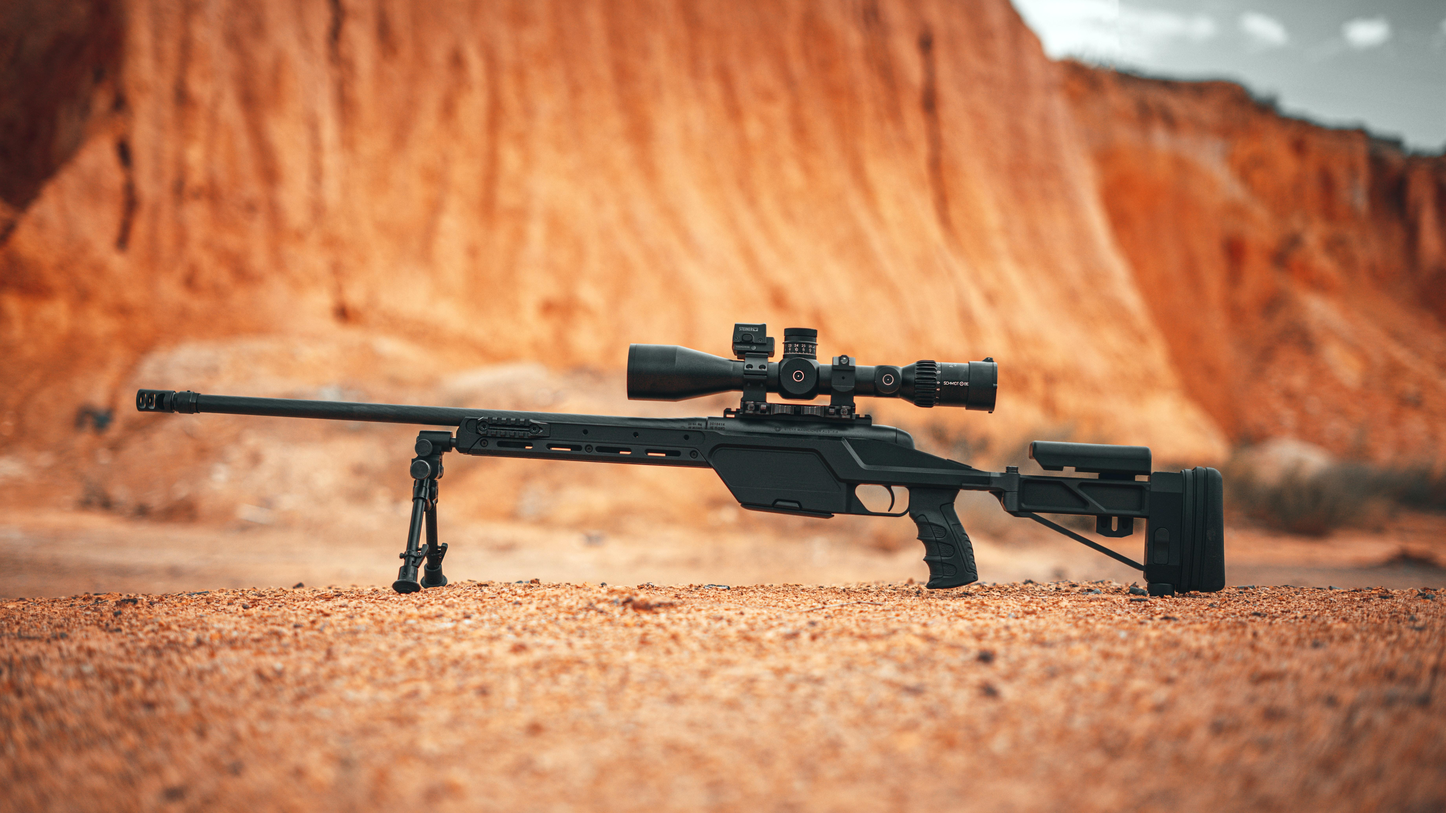larga: (133, 320, 1229, 597)
